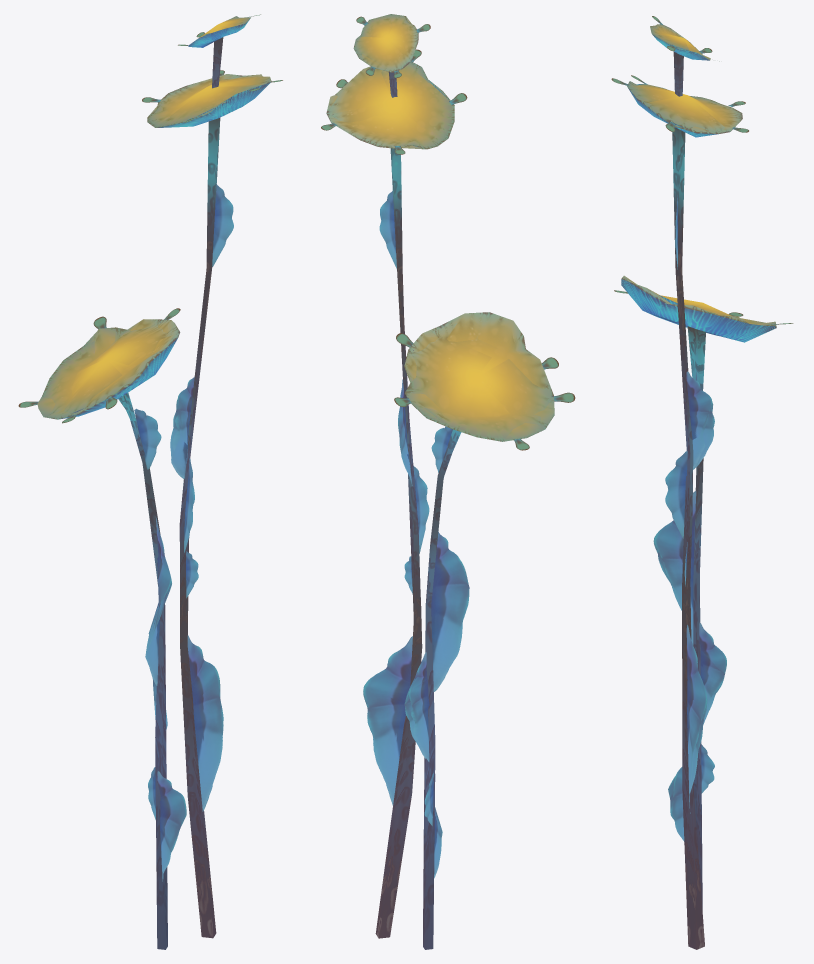
Rendered from blue_mamba_2_fix_scaled.fbx.
3 views of the same model, side by side, from view 1: azimuth 30°, elevation 25°; view 2: azimuth 150°, elevation 25°; view 3: azimuth 270°, elevation 25° (orthographic). The views are drawn at different scales.
Parts seen in each view (by area): view 1: blue_mamba_2_LOD1, blue_mamba_2_LOD3, blue_mamba_2_LOD2; view 2: blue_mamba_2_LOD3, blue_mamba_2_LOD1, blue_mamba_2_LOD2; view 3: blue_mamba_2_LOD1, blue_mamba_2_LOD3, blue_mamba_2_LOD2.
Boxes of the visible parts, x1,y1,x2,y2 form: blue_mamba_2_LOD1: (37, 16, 267, 949); blue_mamba_2_LOD3: (42, 17, 261, 942); blue_mamba_2_LOD2: (18, 14, 282, 937); blue_mamba_2_LOD3: (331, 14, 550, 940); blue_mamba_2_LOD1: (326, 14, 554, 949); blue_mamba_2_LOD2: (321, 16, 575, 949); blue_mamba_2_LOD1: (621, 24, 776, 949); blue_mamba_2_LOD3: (627, 25, 765, 947); blue_mamba_2_LOD2: (611, 16, 793, 949).
Bounding box in the file's own units: 216 × 796 × 150.
